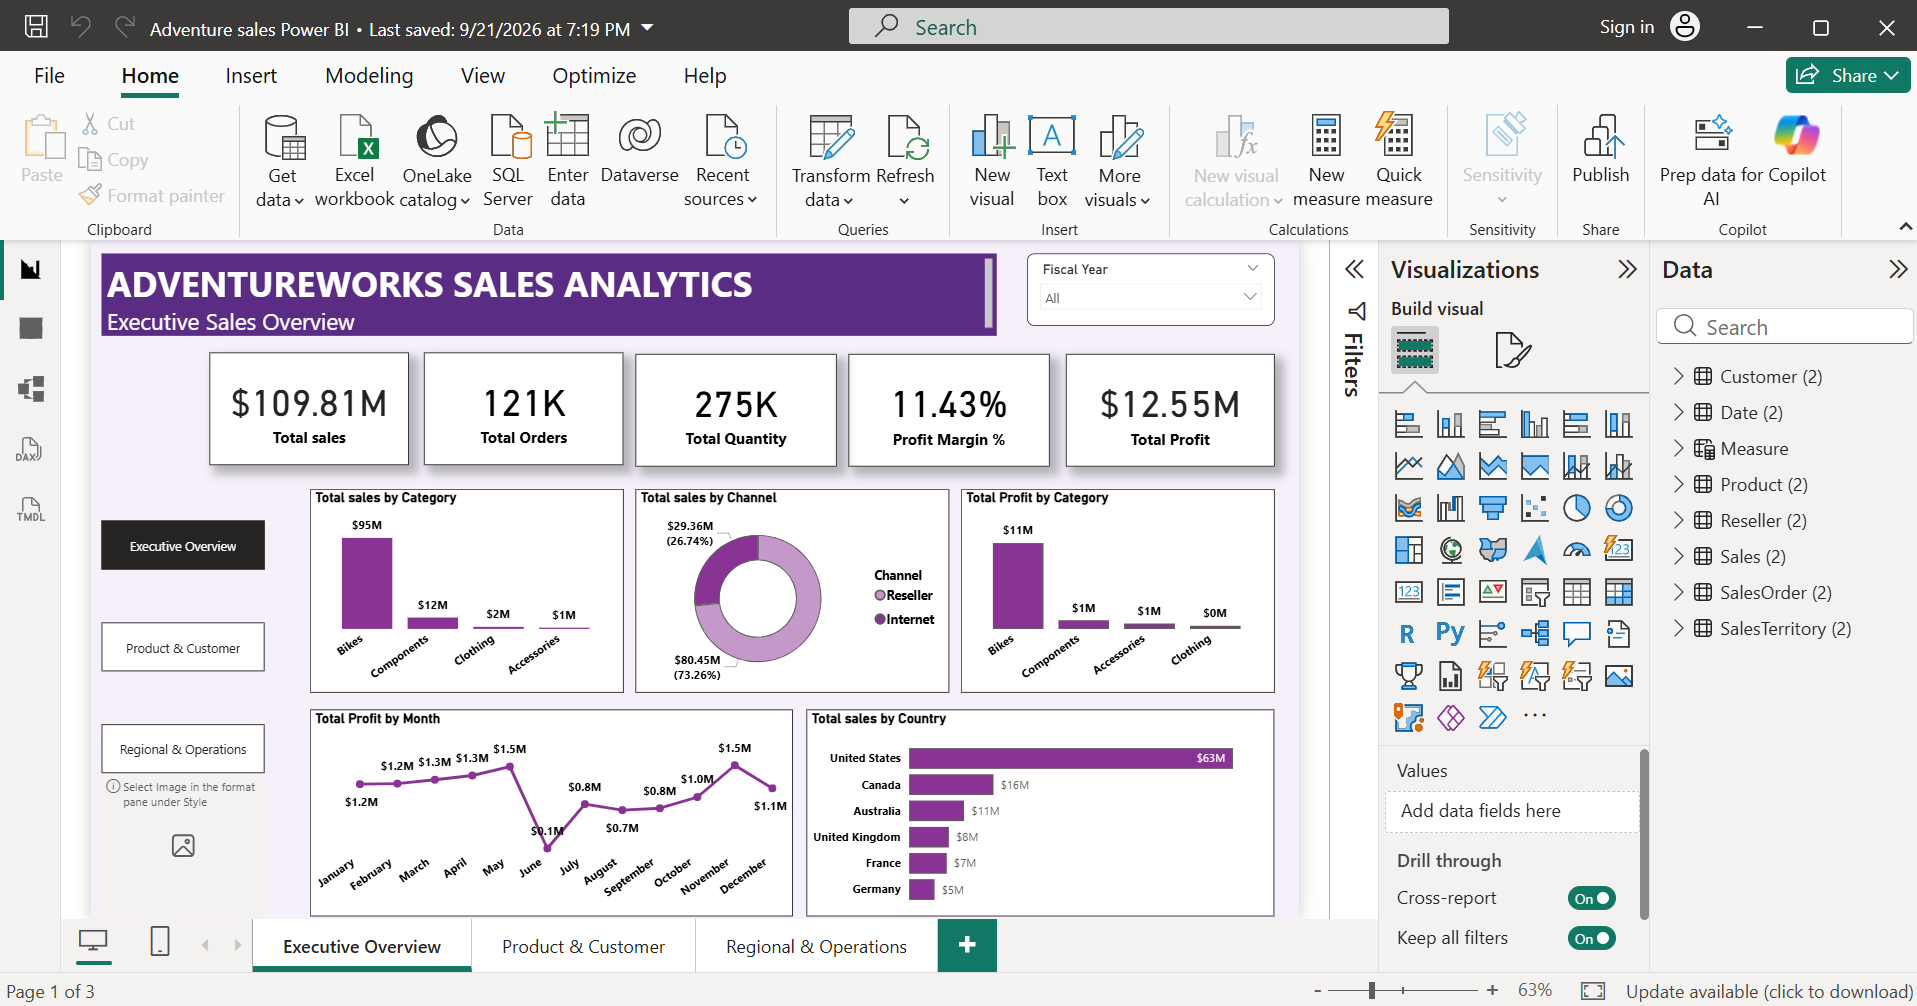

This screenshot's page, from the dashboard's own definition file:
{"tool":"powerbi","page":{"name":"Executive Overview","canvas":[1280,720],"ordinal":0},"visuals":[{"type":"textbox","box":[11.1,14.3,949.6,87.5],"z":0},{"type":"card","fields":{"Values":["Measure.Total sales"]},"box":[125.7,119.3,211.6,119.3],"z":1000},{"type":"card","fields":{"Values":["Measure.Profit Margin %"]},"box":[803.3,120.9,213.1,119.3],"z":2000},{"type":"card","fields":{"Values":["Measure.Total Orders"]},"box":[353.1,119.3,211.6,119.3],"z":3000},{"type":"card","fields":{"Values":["Measure.Total Quantity"]},"box":[577.4,120.9,213.1,119.3],"z":4000},{"type":"clusteredColumnChart","fields":{"Y":["Measure.Total sales"],"Category":["Product (2).Category"]},"box":[232.2,264,332.4,216.3],"z":5000},{"type":"clusteredColumnChart","fields":{"Category":["Product (2).Category"],"Y":["Measure.Total Profit"]},"box":[922.6,264,332.4,216.3],"z":6000},{"type":"clusteredBarChart","fields":{"Y":["Measure.Total sales"],"Category":["SalesTerritory (2).Country"]},"box":[758.7,497.9,496.3,219.5],"z":7000},{"type":"lineChart","fields":{"Y":["Measure.Total Profit"],"Category":["Date (2).Month.Variation.Date Hierarchy.Month"]},"box":[232.2,497.9,512.2,219.5],"z":8000},{"type":"donutChart","fields":{"Category":["SalesOrder (2).Channel"],"Y":["Measure.Total sales"]},"box":[577.4,264,332.4,216.3],"z":9000},{"type":"slicer","title":"FISCAL YEAR","fields":{"Values":["Date (2).Fiscal Year"]},"box":[992.5,14.3,262.5,76.3],"z":10000},{"type":"card","fields":{"Values":["Measure.Total Profit"]},"box":[1033.9,120.9,221.1,119.3],"z":11000},{"type":"pageNavigator","box":[11.1,297.4,173.4,268.8],"z":12000},{"type":"image","box":[11,566,173,152],"z":13000}]}

Visuals, with their boxes on the page's 1280x720 design canvas (x1, y1, x2, y2). These are canvas units, not pixel positions in the 1917x1006 screenshot, which may show the page scaled, cropped or inside an application window:
textbox: box(11, 14, 961, 102)
card - Measure.Total sales: box(126, 119, 337, 239)
card - Measure.Profit Margin %: box(803, 121, 1016, 240)
card - Measure.Total Orders: box(353, 119, 565, 239)
card - Measure.Total Quantity: box(577, 121, 790, 240)
clusteredColumnChart - Measure.Total sales x Product (2).Category: box(232, 264, 565, 480)
clusteredColumnChart - Product (2).Category x Measure.Total Profit: box(923, 264, 1255, 480)
clusteredBarChart - Measure.Total sales x SalesTerritory (2).Country: box(759, 498, 1255, 717)
lineChart - Measure.Total Profit x Date (2).Month.Variation.Date Hierarchy.Month: box(232, 498, 744, 717)
donutChart - SalesOrder (2).Channel x Measure.Total sales: box(577, 264, 910, 480)
"FISCAL YEAR" slicer: box(992, 14, 1255, 91)
card - Measure.Total Profit: box(1034, 121, 1255, 240)
pageNavigator: box(11, 297, 184, 566)
image: box(11, 566, 184, 718)
